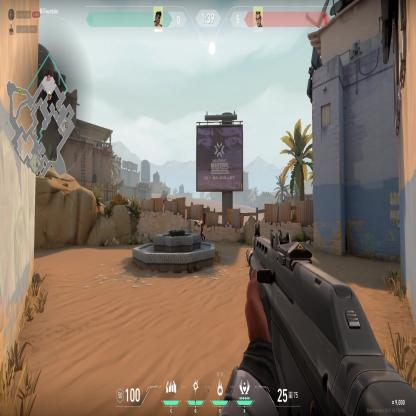enemy: (198, 216, 206, 243)
